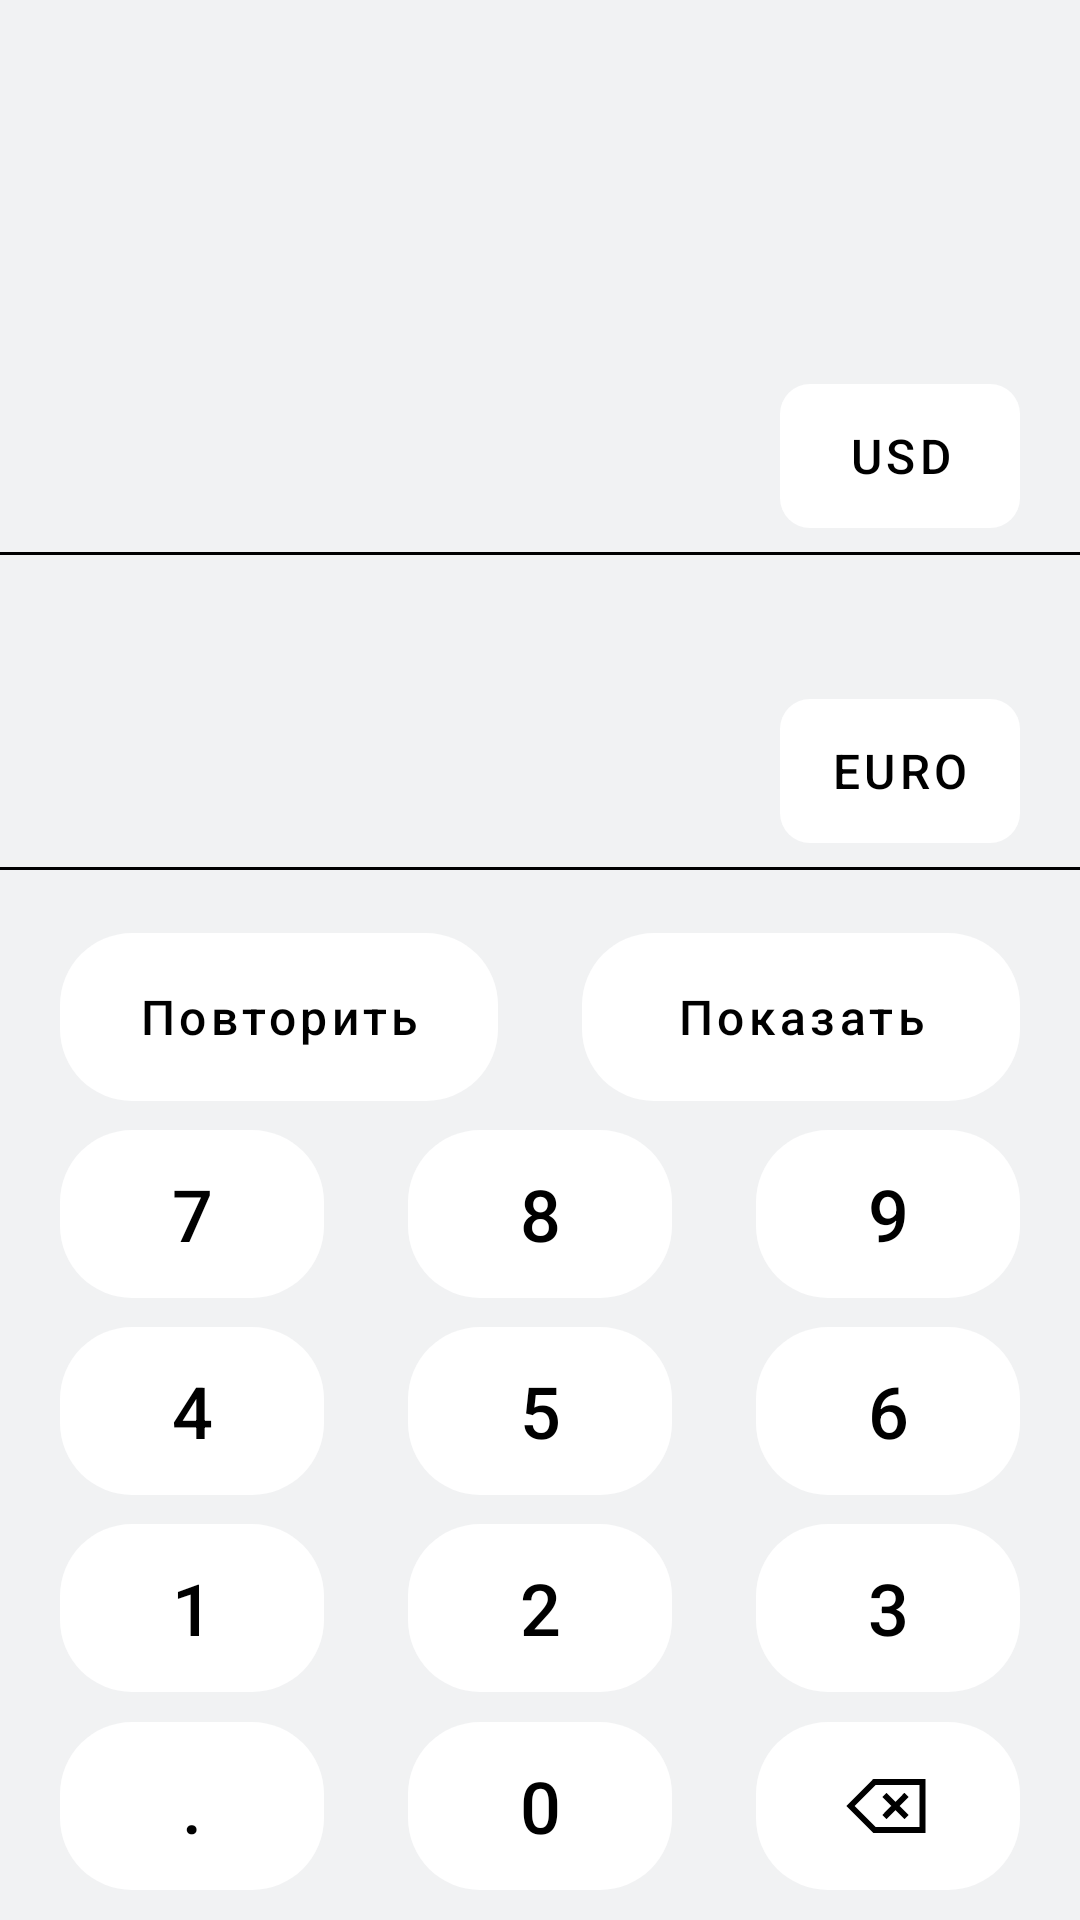

Icons on this 1080x1920 Android screen, each with its box as detection(x1, y1, x2, y2):
erase: detection(756, 1722, 1020, 1890)
